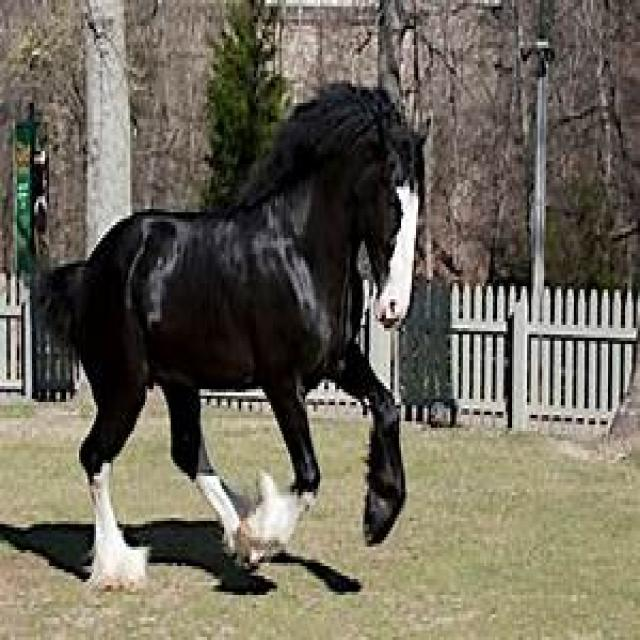horse: (41, 85, 419, 587)
